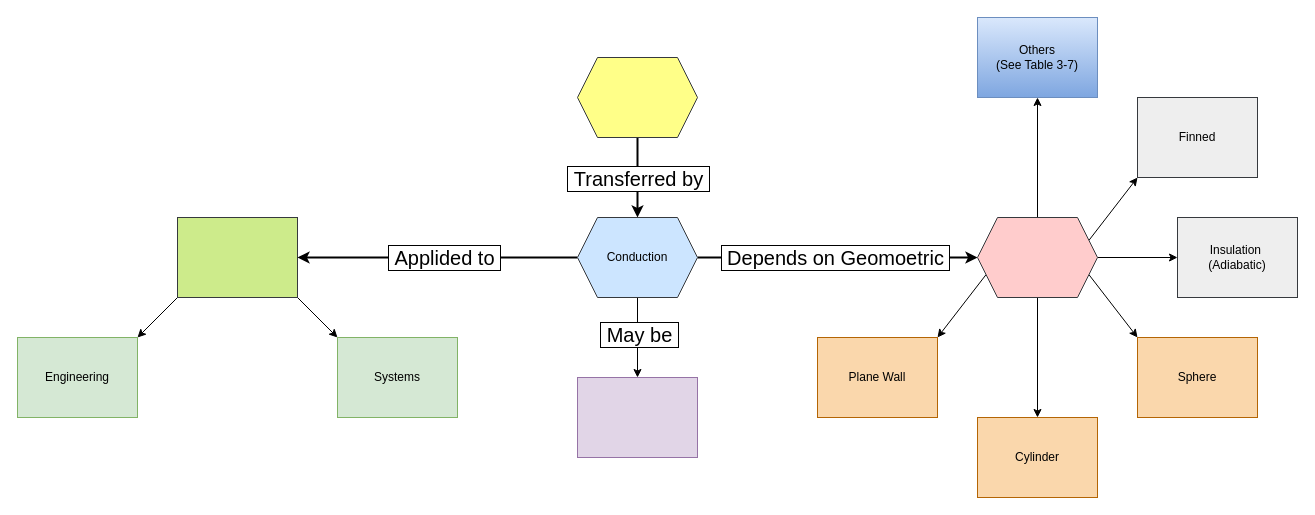
This 1315x515 diagram has some shape labels left out. Here are the shapes that lost their labels. From the top down, the centre of each, then its label:
At [637,97]: "Heat".
At [237,257]: "Practical".
At [1037,257]: "Shape".
At [637,417]: "Multidimensional".
